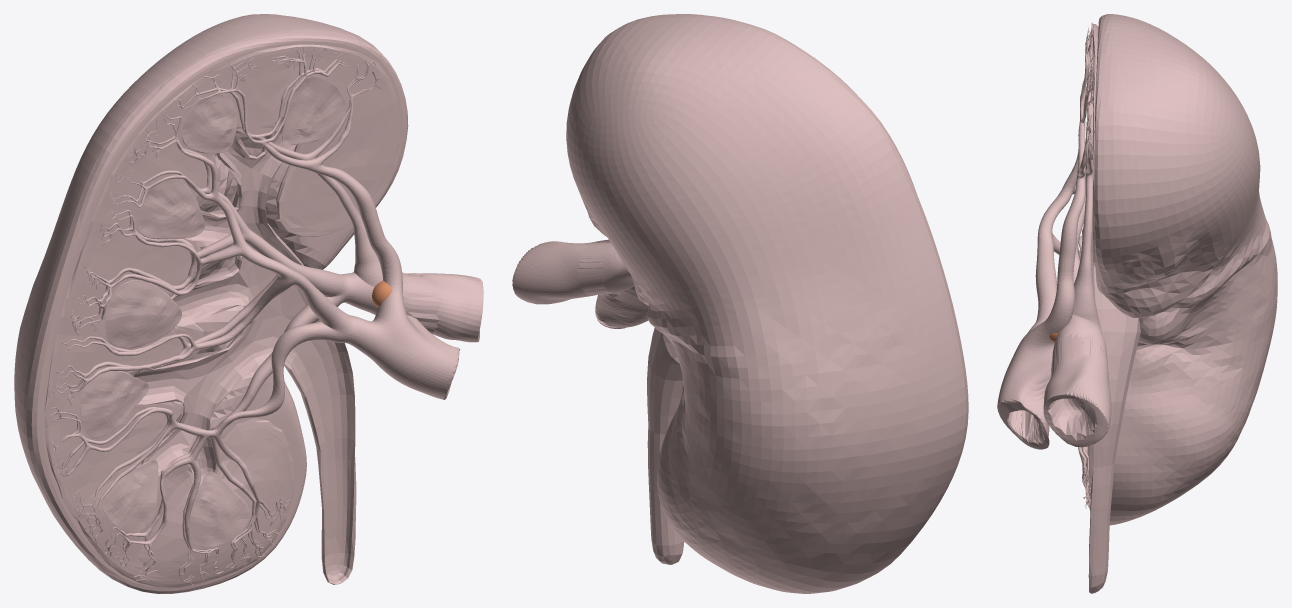
The model's file is kidney_eefb518d.glb.
3 views of the same model, side by side, from view 1: azimuth 30°, elevation 25°; view 2: azimuth 150°, elevation 25°; view 3: azimuth 270°, elevation 25° (orthographic). The views are drawn at different scales.
Visible parts, largest first — view 1: world; view 2: world; view 3: world.
Part boxes in pixels (box(x1,y1,x2,y2)): world: box(14, 14, 483, 593); world: box(512, 14, 968, 593); world: box(997, 14, 1277, 593).
Size of the model in its own units: 8.47 by 10.1 by 4.88.
